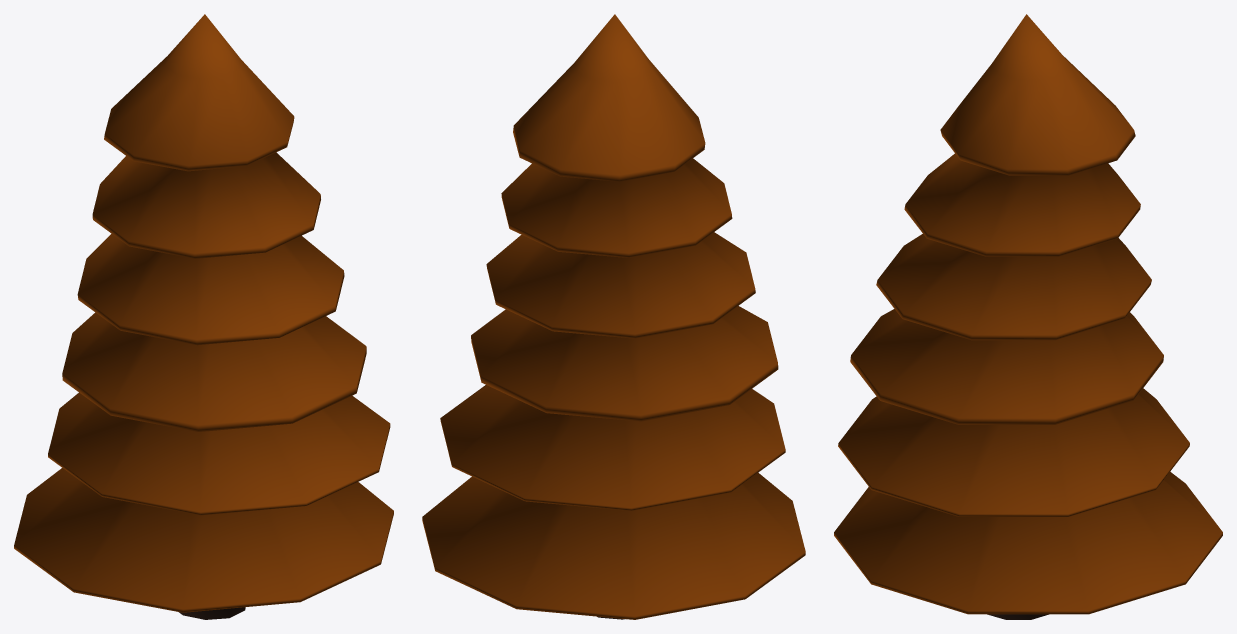
The model's file is Pino_Recto_Naranja.fbx.
The picture shows the model from 3 angles, left to right: view 1: azimuth 30°, elevation 25°; view 2: azimuth 150°, elevation 25°; view 3: azimuth 270°, elevation 25°; orthographic projection.
Parts seen in each view (by area): view 1: Pino recto.001; view 2: Pino recto.001; view 3: Pino recto.001.
Boxes of the visible parts, box(x1,y1,x2,y2) form: Pino recto.001: box(14, 14, 393, 619); Pino recto.001: box(422, 14, 805, 619); Pino recto.001: box(834, 14, 1222, 619).
Size of the model in its own units: 951 by 1664 by 994.
